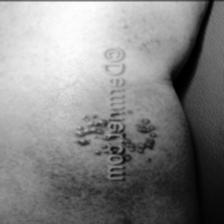Toxin: (127, 106, 160, 166), (75, 108, 107, 159)
